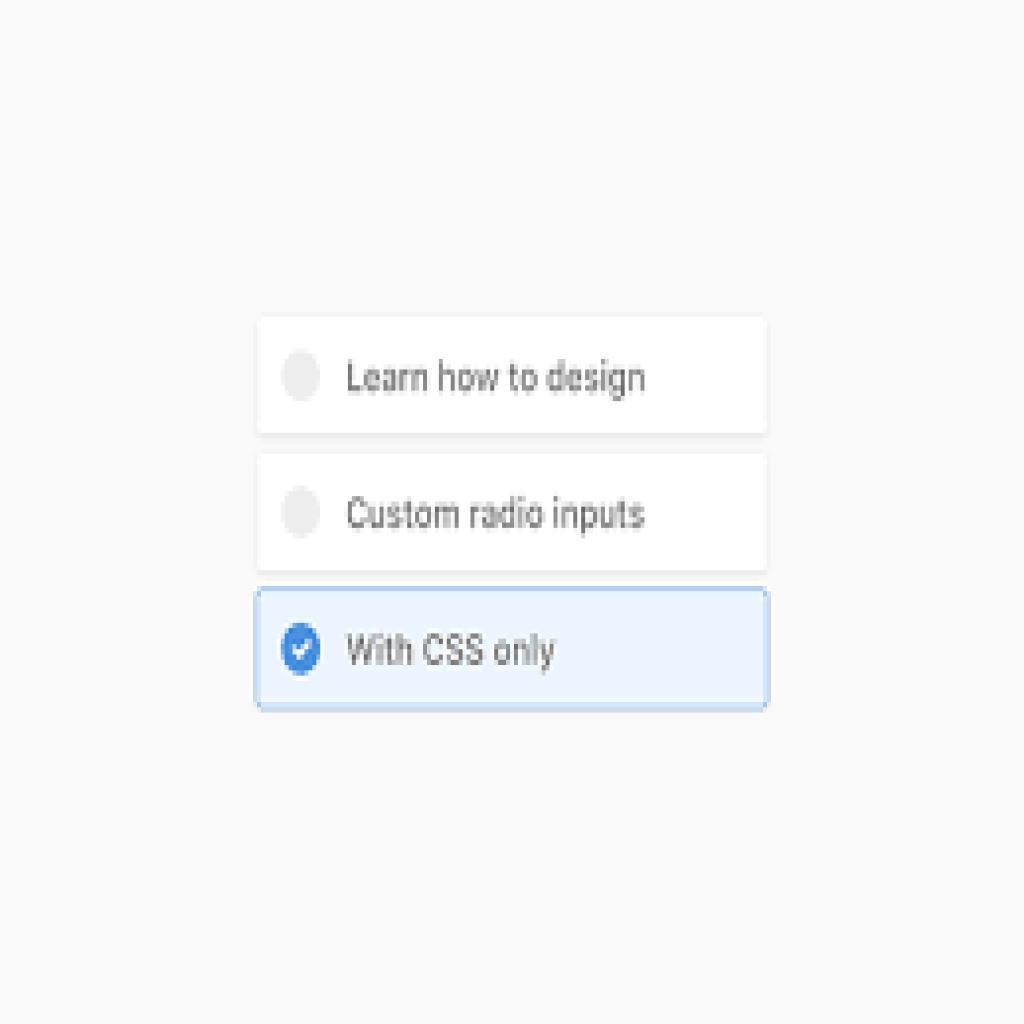label: (345, 494, 648, 543), (342, 360, 650, 403), (345, 632, 562, 671)
radio: (278, 620, 325, 678), (279, 349, 325, 405), (282, 488, 324, 543)
